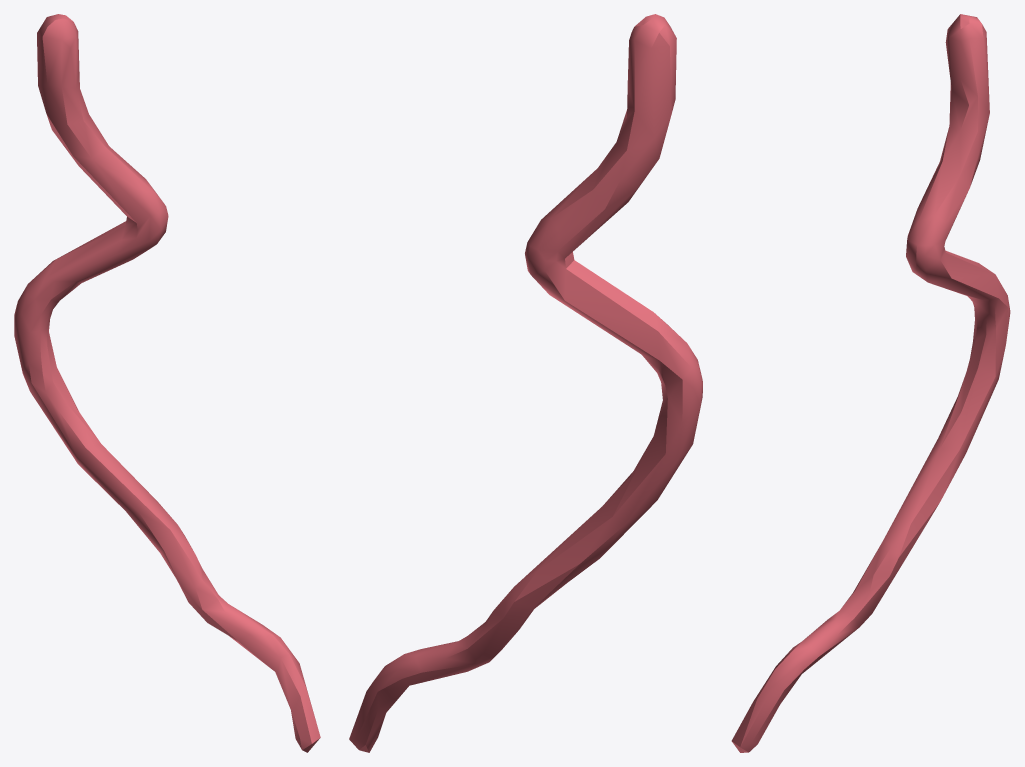
File: fma3895_fj3666.glb
3 renders of one model, left to right at view 1: azimuth 30°, elevation 25°; view 2: azimuth 210°, elevation 25°; view 3: azimuth 270°, elevation 25°, orthographic. The views are drawn at different scales.
Visible parts, largest first — view 1: FMA3895_FJ3666; view 2: FMA3895_FJ3666; view 3: FMA3895_FJ3666.
Part boxes in pixels (left/top/right/bottom): FMA3895_FJ3666: left=14, top=14, right=320, bottom=752; FMA3895_FJ3666: left=349, top=14, right=702, bottom=752; FMA3895_FJ3666: left=731, top=14, right=1010, bottom=752.
Bounding box in the file's own units: 0.00453 × 0.0169 × 0.00634.
